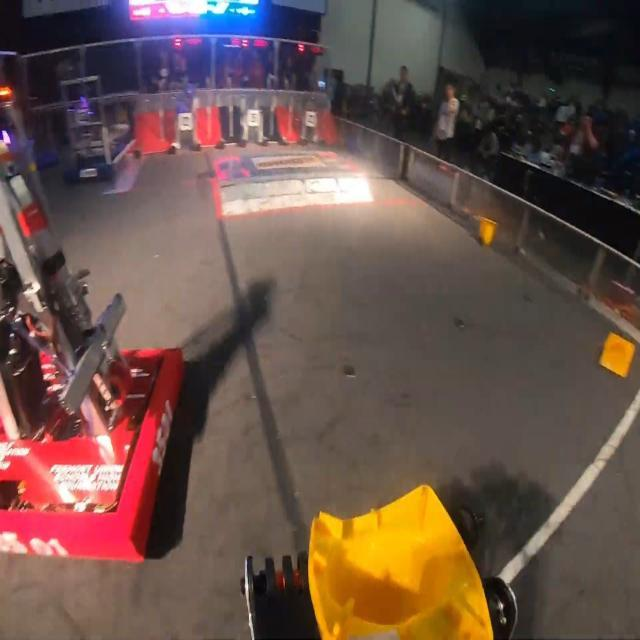robot: (0, 83, 184, 562), (56, 75, 126, 182)
